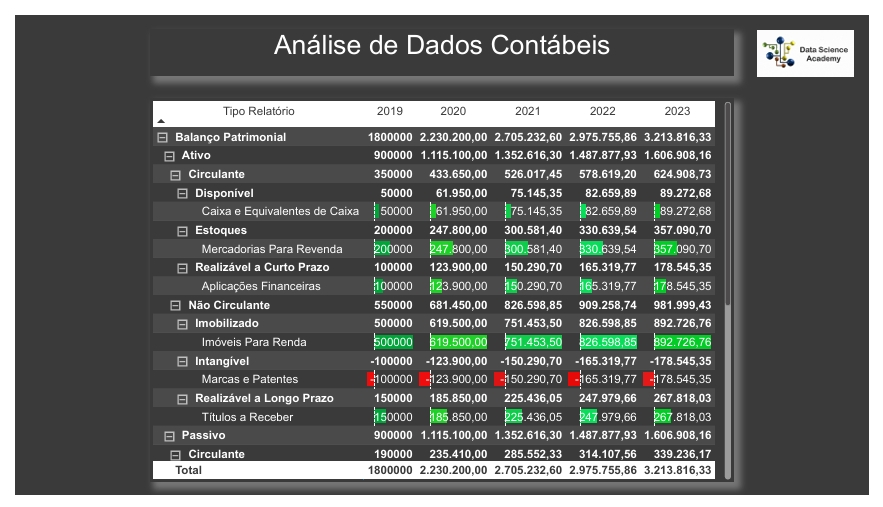

What the dashboard file says about the page in this screenshot:
{"tool":"powerbi","page":{"name":"Página 1","canvas":[1280,720],"ordinal":0},"visuals":[{"type":"pivotTable","fields":{"Rows":["PlanoContas.Tipo Relatório","PlanoContas.Conta Nível 1","PlanoContas.Conta Nível 2","PlanoContas.Conta Nível 3","PlanoContas.Conta Nível 4"],"Values":["Sum(DadosContabeis.Ano_2019)","Sum(DadosContabeis.Ano_2020)","Sum(DadosContabeis.Ano_2021)","Sum(DadosContabeis.Ano_2022)","Sum(DadosContabeis.Ano_2023)"]},"box":[203.1,124,875.2,576.5],"z":0},{"type":"textbox","title":"Análise de Dados Contábeis","box":[203.1,20.9,875.2,70.2],"z":1},{"type":"image","box":[1108.2,6,153.8,101.6],"z":2}]}

Visuals, with their boxes in screenshot pixels (x1, y1, x2, y2), scaled from the page's 1280x720 canvas onto the 883x507 screenshot:
pivotTable - PlanoContas.Tipo Relatório x PlanoContas.Conta Nível 1: select_region(140, 87, 744, 493)
"Análise de Dados Contábeis" textbox: select_region(140, 15, 744, 64)
image: select_region(764, 4, 871, 76)
